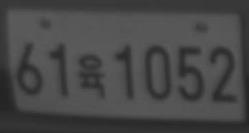0: (144, 45, 172, 99)
1: (113, 44, 140, 99), (48, 42, 73, 95)
2: (209, 45, 238, 102)
5: (176, 46, 206, 101)
6: (16, 42, 42, 94)
육: (77, 53, 107, 98)
